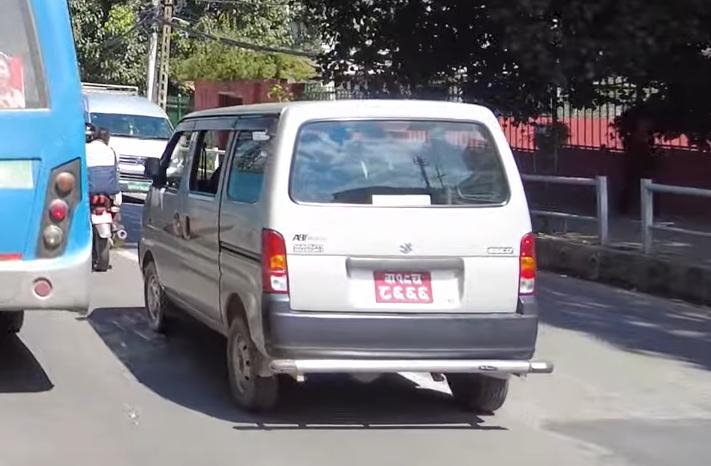micro_bus: (79, 76, 177, 205)
van: (129, 95, 560, 421)
